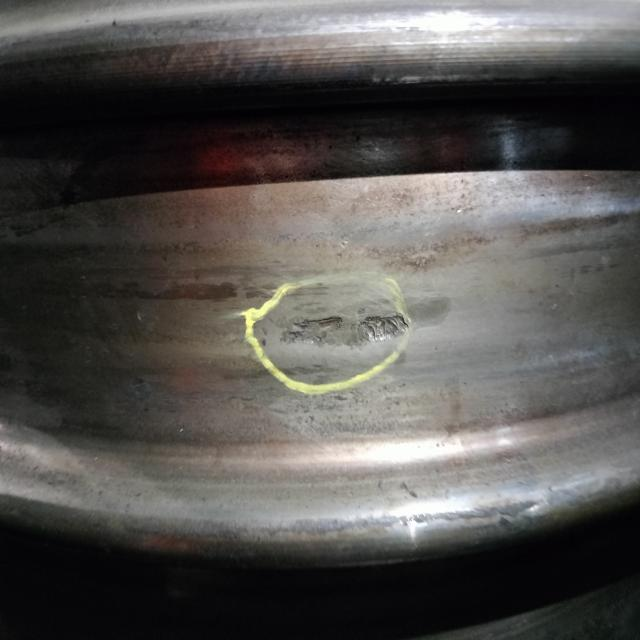Blue hole: (279, 306, 404, 358)
